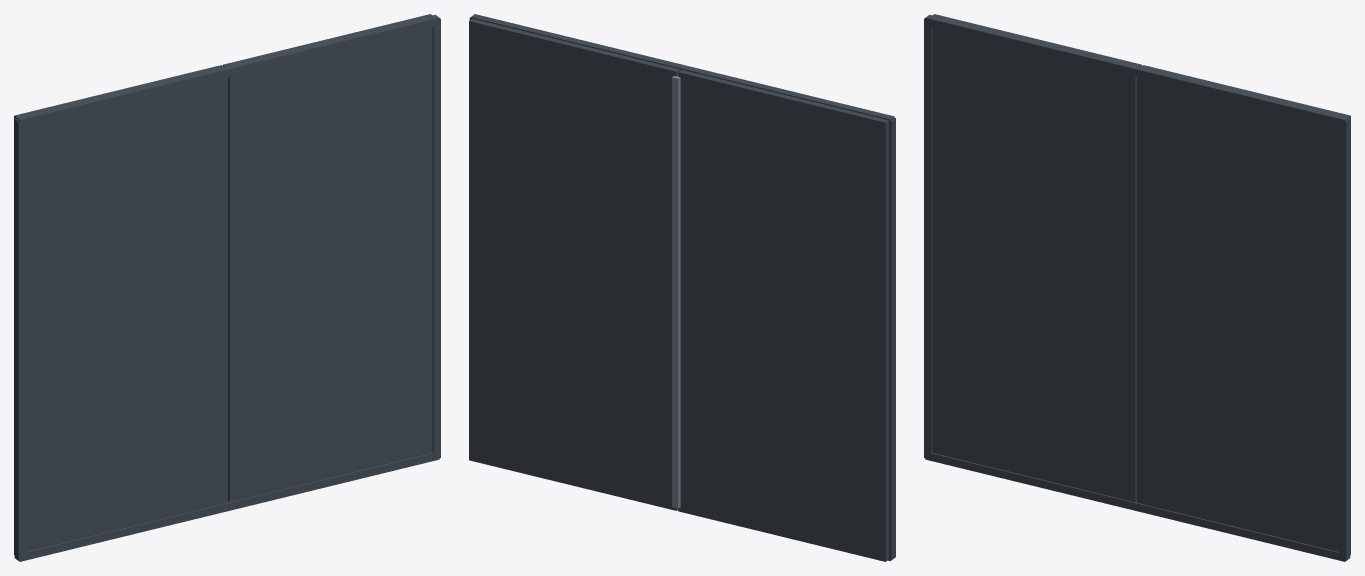
The model's file is folding-phone.glb.
3 views of the same model, side by side, from view 1: azimuth 30°, elevation 25°; view 2: azimuth 150°, elevation 25°; view 3: azimuth 330°, elevation 25° (orthographic).
Parts seen in each view (by area): view 1: Right folding back, Left folding back, Side bezel, End bezel.001, Side bezel.001, End bezel; view 2: Left folding back, Right folding back, Central folding hinge, Side bezel, End bezel.001; view 3: Left folding back, Right folding back, Side bezel.001, End bezel.001, Side bezel, End bezel.
Boxes of the visible parts, x1,y1,x2,y2 form: Right folding back: [223, 14, 432, 502]; Left folding back: [14, 65, 227, 554]; Side bezel: [14, 118, 25, 560]; End bezel.001: [15, 14, 439, 127]; Side bezel.001: [432, 18, 440, 457]; End bezel: [19, 452, 439, 561]; Left folding back: [678, 70, 888, 561]; Right folding back: [469, 19, 679, 510]; Central folding hinge: [672, 75, 680, 508]; Side bezel: [889, 117, 895, 560]; End bezel.001: [470, 14, 894, 126]; Left folding back: [932, 14, 1141, 502]; Right folding back: [1137, 65, 1350, 554]; Side bezel.001: [1339, 118, 1350, 560]; End bezel.001: [925, 14, 1349, 127]; Side bezel: [924, 18, 932, 457]; End bezel: [925, 452, 1345, 561].
Bounding box in the file's own units: 1.05 × 1.05 × 0.041.
